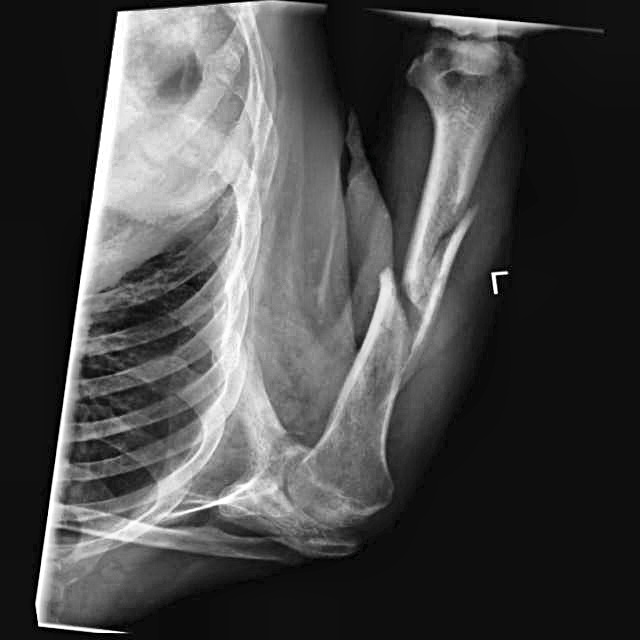Spiral: (357, 195, 483, 357)
